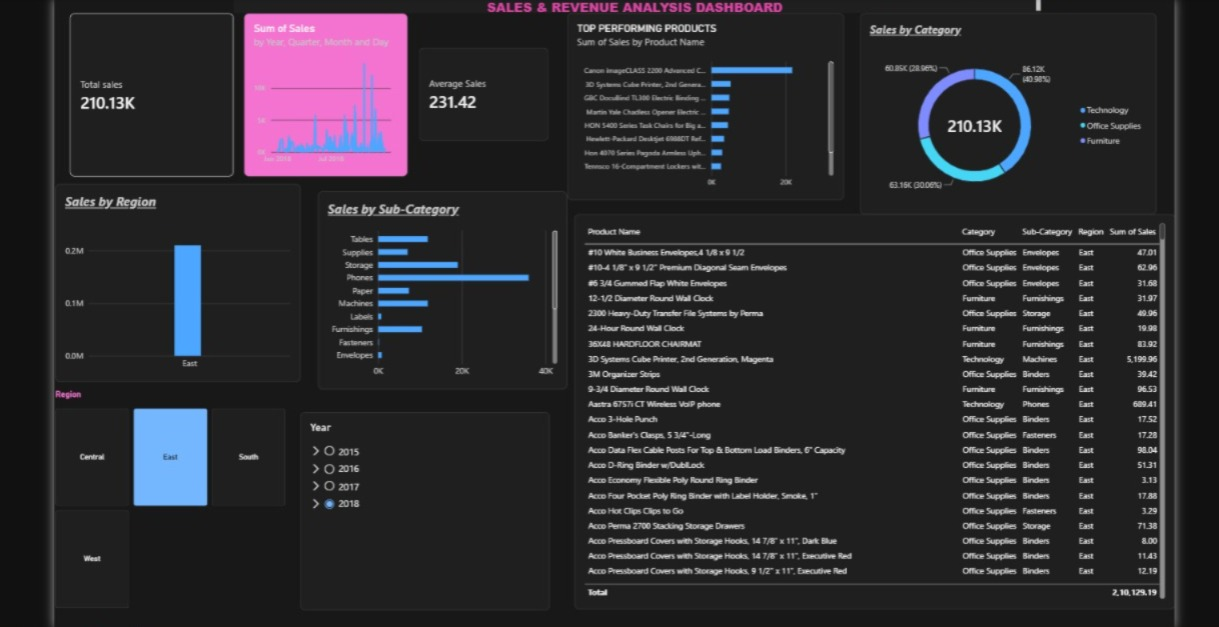

What the dashboard file says about the page in this screenshot:
{"tool":"powerbi","page":{"name":"Page 1","canvas":[1920,1080],"ordinal":0},"visuals":[{"type":"cardVisual","fields":{"Data":["Sum(train.Sales)"]},"box":[26.8,25,280,280],"z":0},{"type":"lineChart","fields":{"Category":["train.Order Date.Variation.Date Hierarchy.Year","train.Order Date.Variation.Date Hierarchy.Quarter","train.Order Date.Variation.Date Hierarchy.Month","train.Order Date.Variation.Date Hierarchy.Day"],"Y":["Sum(train.Sales)"]},"box":[325,25,280,280],"z":1},{"type":"textbox","box":[307.1,0,1382.1,25],"z":3},{"type":"cardVisual","fields":{"Data":["train.Average Sales"]},"box":[625,83.9,221.4,160.7],"z":4},{"type":"clusteredBarChart","title":"TOP PERFORMING PRODUCTS","fields":{"Category":["train.Product Name"],"Y":["Sum(train.Sales)"]},"box":[878.6,25,473.2,319.6],"z":5},{"type":"donutChart","fields":{"Category":["train.Category"],"Y":["Sum(train.Sales)"]},"box":[1380.4,25,507.1,344.6],"z":6},{"type":"clusteredColumnChart","fields":{"Category":["train.Region"],"Y":["Sum(train.Sales)"]},"box":[1.8,317.9,419.6,339.3],"z":7},{"type":"barChart","fields":{"Category":["train.Sub-Category"],"Y":["Sum(train.Sales)"]},"box":[451.8,330.4,426.8,339.3],"z":8},{"type":"advancedSlicerVisual","fields":{"Values":["train.Region"]},"box":[1.8,669.6,394.6,376.8],"z":9},{"type":"listSlicer","fields":{"Values":["train.Order Date.Variation.Date Hierarchy.Year","train.Order Date.Variation.Date Hierarchy.Quarter","train.Order Date.Variation.Date Hierarchy.Month","train.Order Date.Variation.Date Hierarchy.Day"]},"box":[421.4,708.9,427,339],"z":10},{"type":"tableEx","fields":{"Values":["train.Product Name","train.Category","train.Sub-Category","train.Region","Sum(train.Sales)"]},"box":[891.1,369.6,1028.6,676.8],"z":11}]}

Visuals, with their boxes on the page's 1920x1080 design canvas (x1, y1, x2, y2). These are canvas units, not pixel positions in the 1219x627 screenshot, which may show the page scaled, cropped or inside an application window:
cardVisual - Sum(train.Sales): {"x1": 27, "y1": 25, "x2": 307, "y2": 305}
lineChart - train.Order Date.Variation.Date Hierarchy.Year x train.Order Date.Variation.Date Hierarchy.Quarter: {"x1": 325, "y1": 25, "x2": 605, "y2": 305}
textbox: {"x1": 307, "y1": 0, "x2": 1689, "y2": 25}
cardVisual - train.Average Sales: {"x1": 625, "y1": 84, "x2": 846, "y2": 245}
"TOP PERFORMING PRODUCTS" clusteredBarChart: {"x1": 879, "y1": 25, "x2": 1352, "y2": 345}
donutChart - train.Category x Sum(train.Sales): {"x1": 1380, "y1": 25, "x2": 1888, "y2": 370}
clusteredColumnChart - train.Region x Sum(train.Sales): {"x1": 2, "y1": 318, "x2": 421, "y2": 657}
barChart - train.Sub-Category x Sum(train.Sales): {"x1": 452, "y1": 330, "x2": 879, "y2": 670}
advancedSlicerVisual - train.Region: {"x1": 2, "y1": 670, "x2": 396, "y2": 1046}
listSlicer - train.Order Date.Variation.Date Hierarchy.Year x train.Order Date.Variation.Date Hierarchy.Quarter: {"x1": 421, "y1": 709, "x2": 848, "y2": 1048}
tableEx - train.Product Name x train.Category: {"x1": 891, "y1": 370, "x2": 1920, "y2": 1046}
